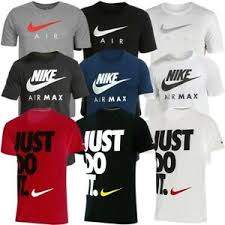nike: (18, 66, 69, 96), (160, 71, 207, 100), (19, 178, 60, 206), (87, 19, 131, 43), (157, 17, 197, 41), (25, 19, 70, 40), (95, 77, 134, 94), (168, 178, 194, 200)
